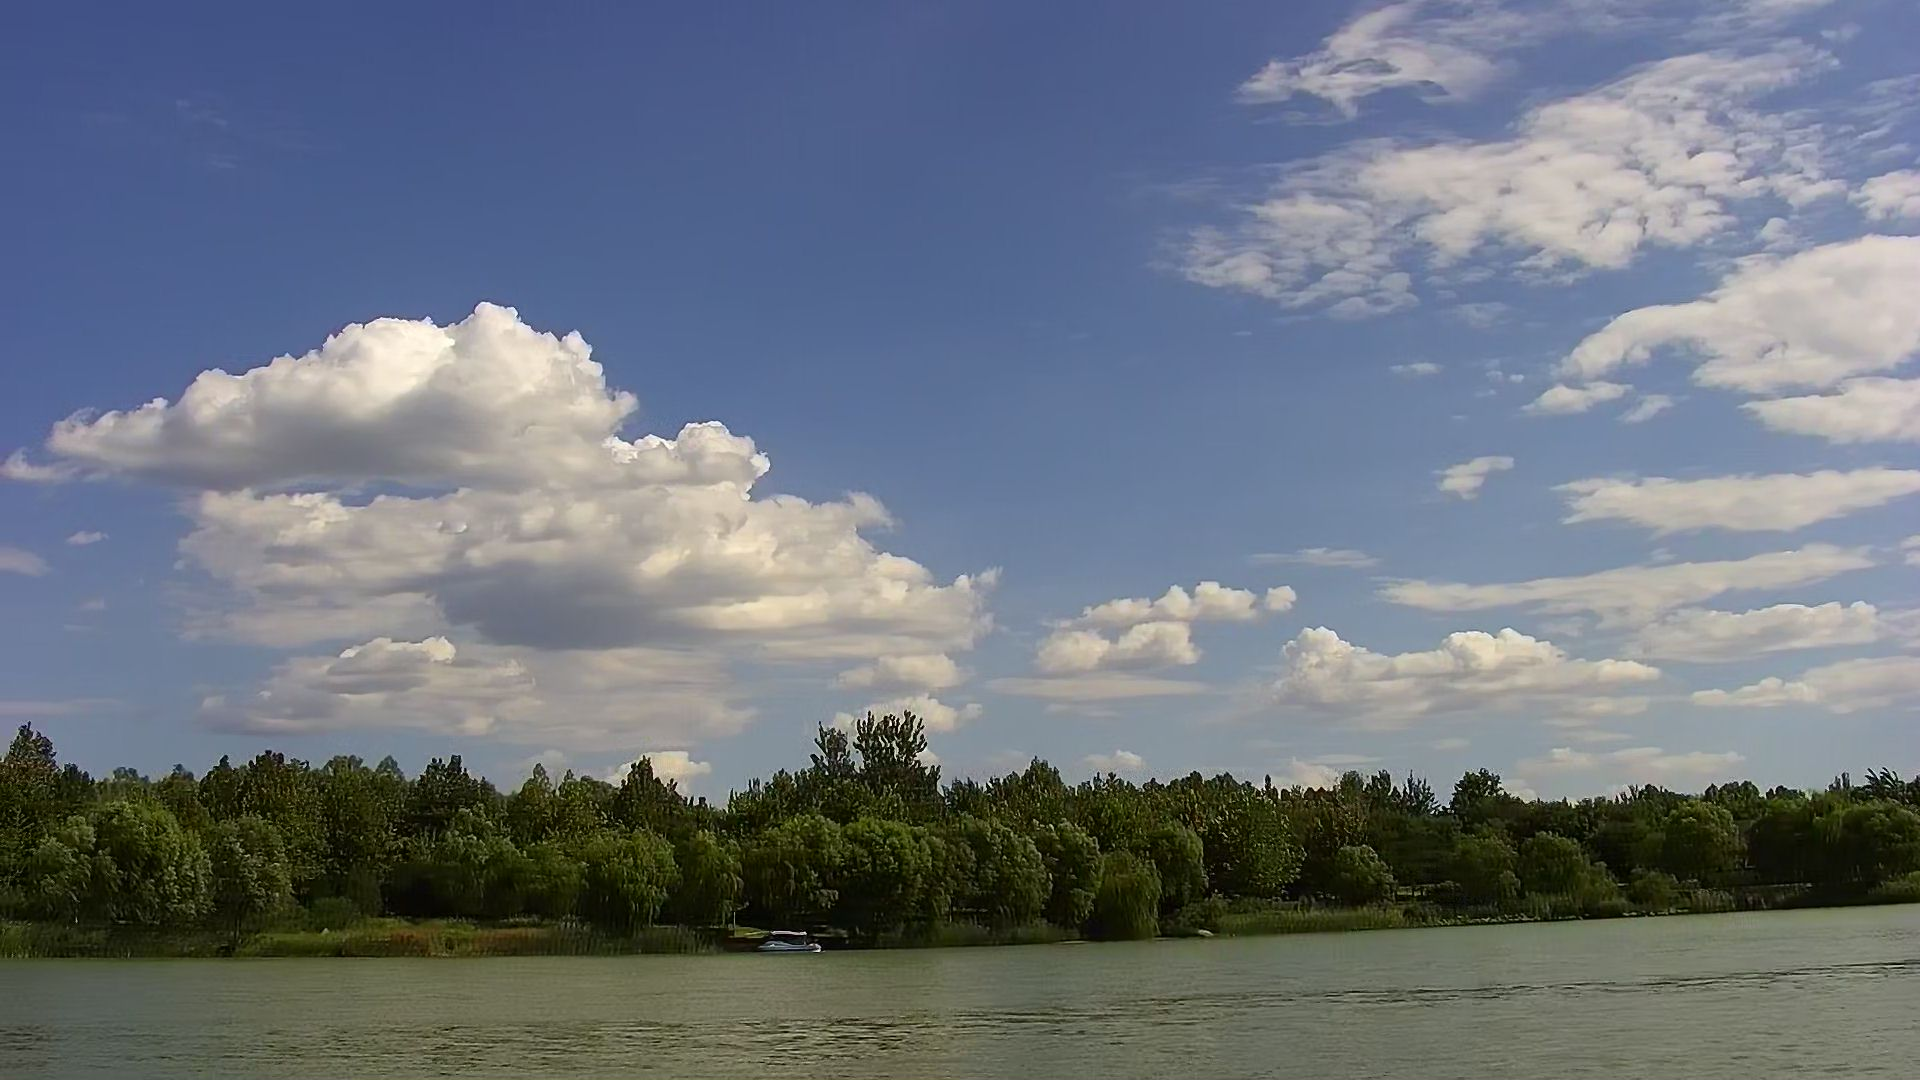boat: (757, 924, 825, 956)
